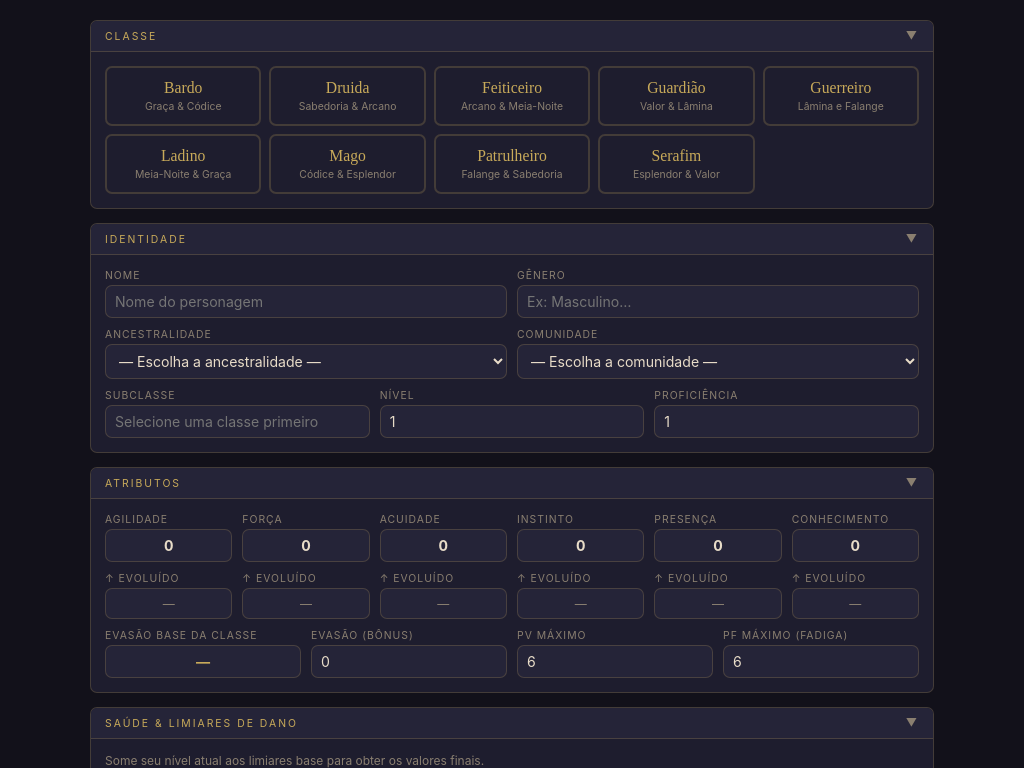
FormScreen — seleção de classe › selecionar Ladino preenche Evasão base 12
Click the text "Ladino" at (183, 156), box [161, 147, 205, 164]
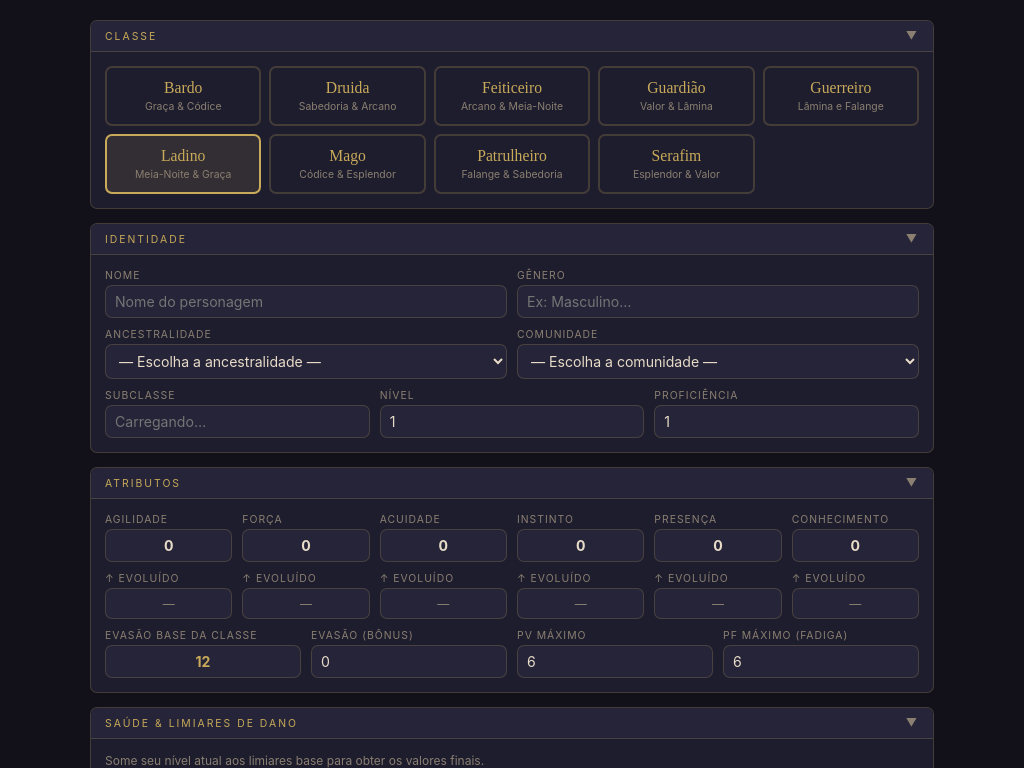
Now the field showing "12" is shown, box [105, 645, 301, 678]
